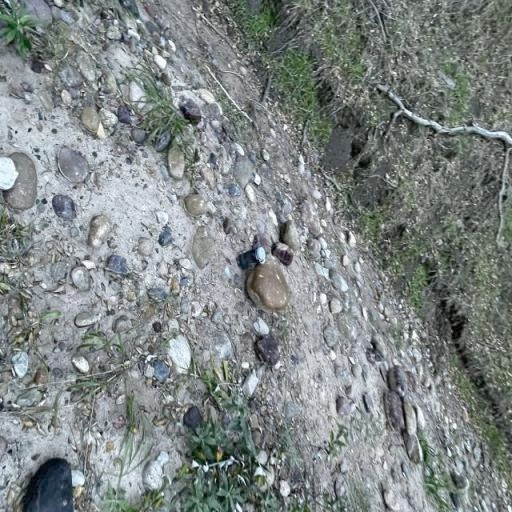bottle: (239, 247, 266, 269)
